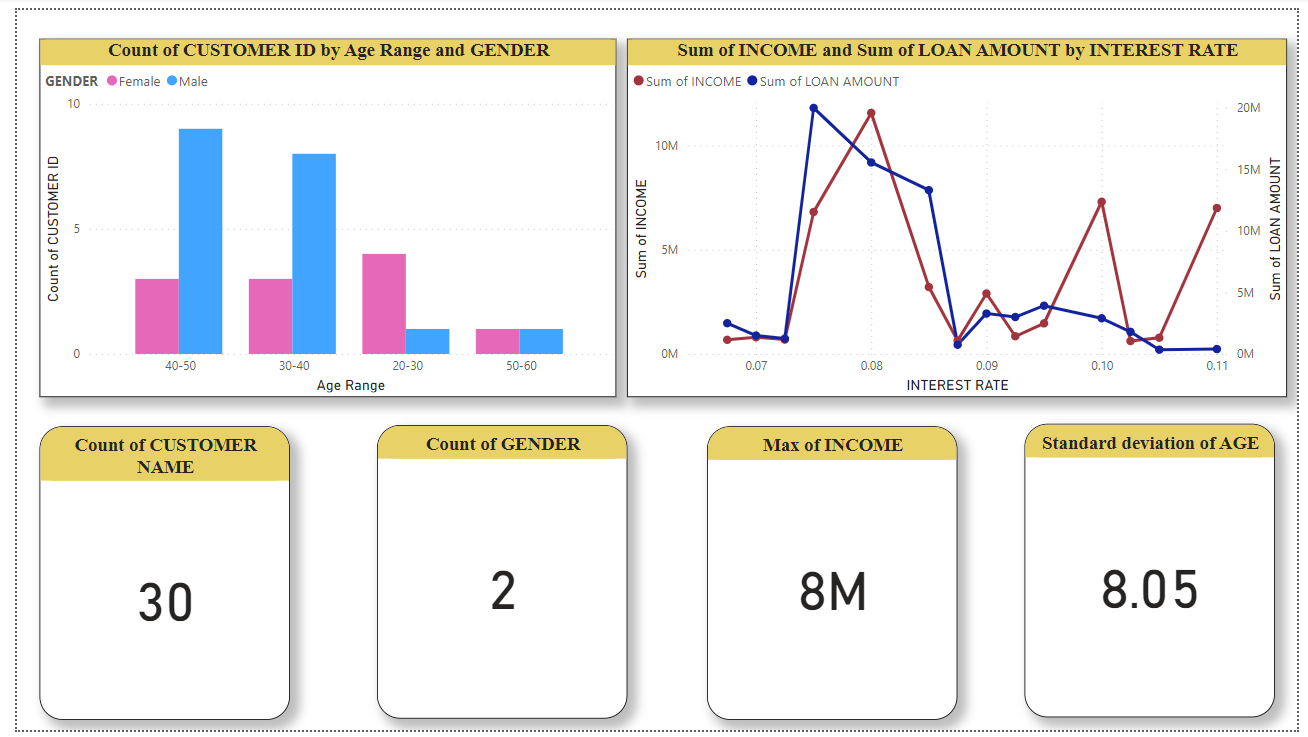

The page's visual inventory and layout, read from the dashboard file:
{"tool":"powerbi","page":{"name":"Page 3","canvas":[1280,720],"ordinal":3},"visuals":[{"type":"clusteredColumnChart","fields":{"Category":["Customer Data.Age Range"],"Y":["Count(Customer Data.CUSTOMER ID )"],"Series":["Customer Data.GENDER"]},"box":[22,29.1,577,358.2],"z":0},{"type":"lineChart","fields":{"Y2":["Sum(Loan Data.LOAN AMOUNT)"],"Y":["Sum(Customer Data.INCOME)"],"Category":["Loan Data.INTEREST RATE"]},"box":[610,29.1,660.1,358.2],"z":1000},{"type":"card","title":"Count of CUSTOMER NAME","fields":{"Values":["CountNonNull(Customer Data.CUSTOMER NAME)"]},"box":[22,416.6,250.6,293.4],"z":2000},{"type":"card","title":"Count of GENDER","fields":{"Values":["Count(Customer Data.GENDER)"]},"box":[359.4,414.4,250.6,293.4],"z":3000},{"type":"card","title":"Max of INCOME","fields":{"Values":["Max(Customer Data.INCOME)"]},"box":[689.4,416.8,250.6,293.4],"z":4000},{"type":"card","title":"Standard deviation of AGE","fields":{"Values":["Sum(Customer Data.AGE)"]},"box":[1007.3,414.2,250.6,293.4],"z":5000}]}

Visuals, with their boxes in screenshot pixels (x1, y1, x2, y2), scaled from the page's 1280x720 canvas onto the 1308x737 screenshot:
clusteredColumnChart - Customer Data.Age Range x Count(Customer Data.CUSTOMER ID ): [22,30,612,396]
lineChart - Sum(Loan Data.LOAN AMOUNT) x Sum(Customer Data.INCOME): [623,30,1298,396]
"Count of CUSTOMER NAME" card: [22,426,279,727]
"Count of GENDER" card: [367,424,623,725]
"Max of INCOME" card: [704,427,961,727]
"Standard deviation of AGE" card: [1029,424,1285,724]
